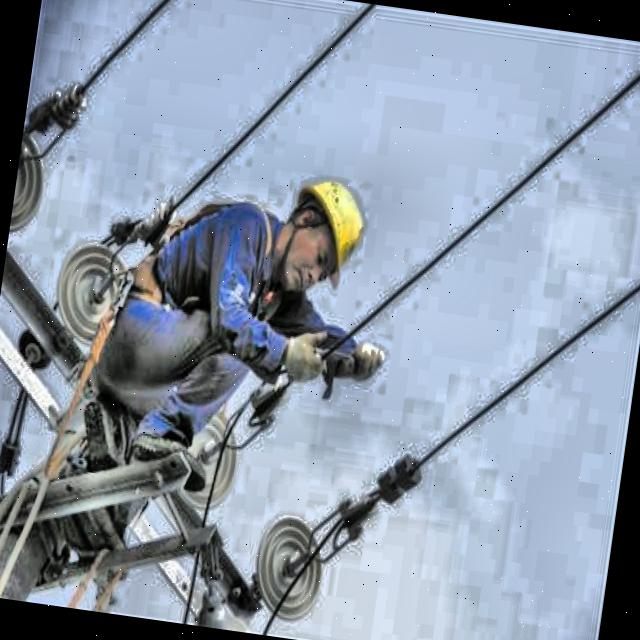helmet: (264, 162, 373, 300)
